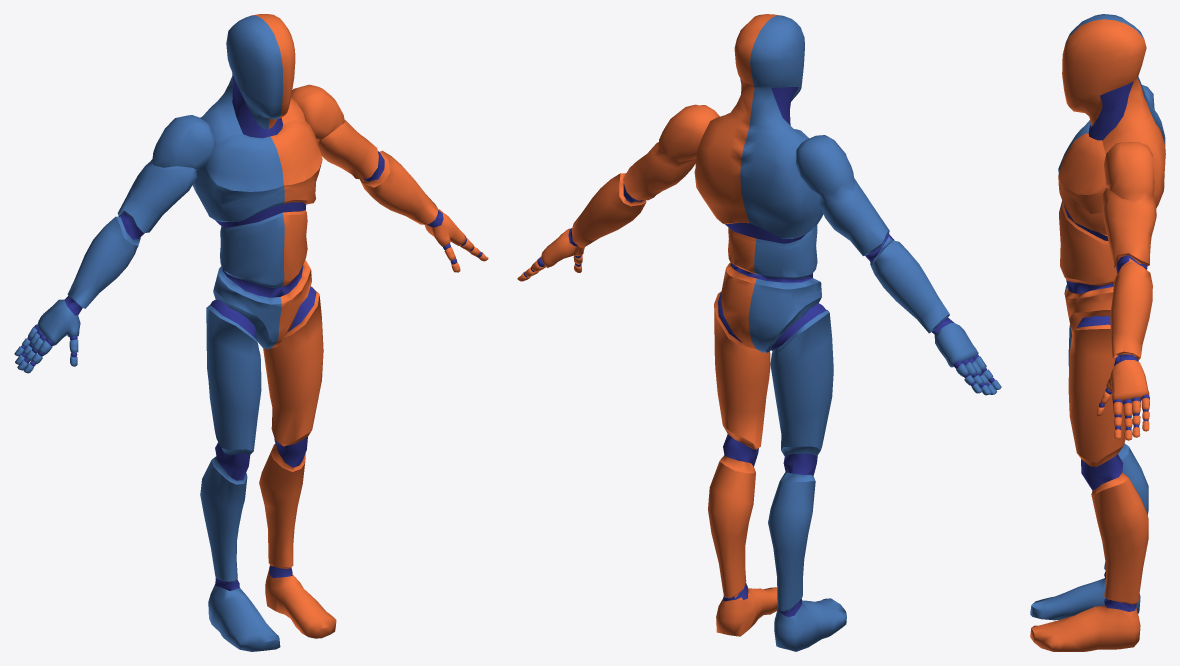
File: human-a-pose.glb
3 renders of one model, left to right at view 1: azimuth 30°, elevation 25°; view 2: azimuth 150°, elevation 25°; view 3: azimuth 270°, elevation 25°, orthographic. The views are drawn at different scales.
Visible parts, largest first — view 1: Mannequin; view 2: Mannequin; view 3: Mannequin.
Boxes of the visible parts, x1,y1,x2,y2 form: Mannequin: (14,14,488,651); Mannequin: (517,14,1001,651); Mannequin: (1030,14,1165,651).
Bounding box in the file's own units: 1.48 × 1.83 × 0.3696.
Materials: 1 (1 with a texture image).
